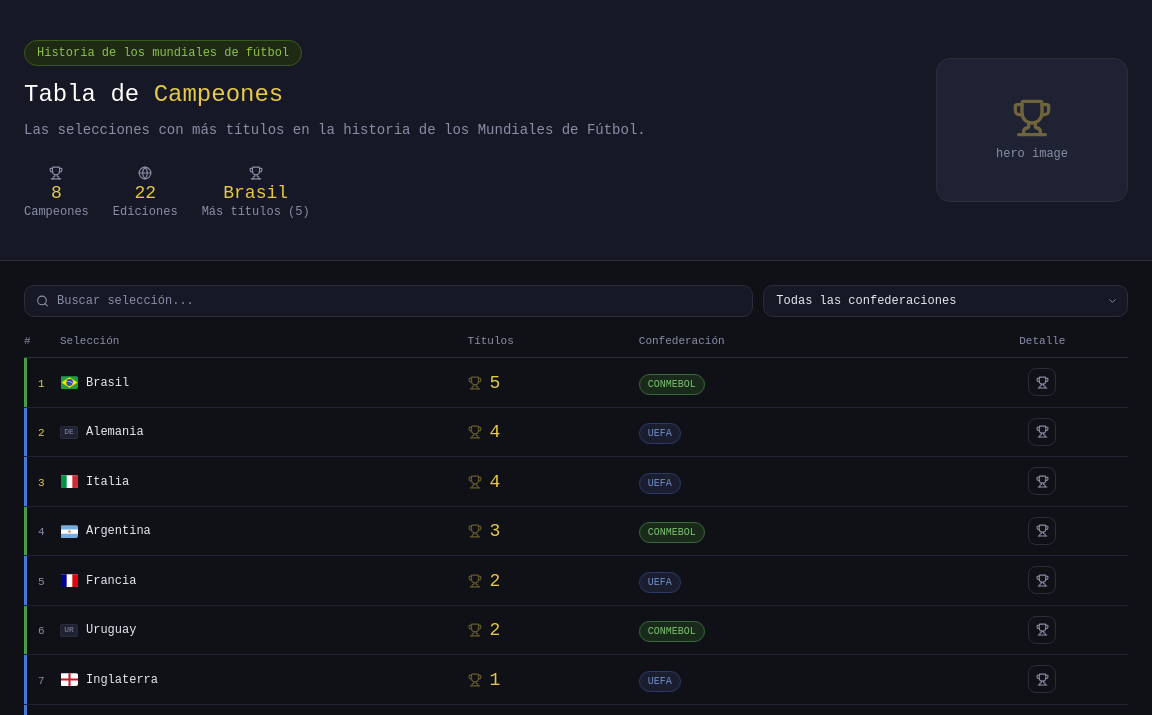
Test: ChampionsPage › opens the title details returned by the API for a champion
Click the button named "Ver títulos de Argentina" at (1042, 531), box [1028,517,1056,545]
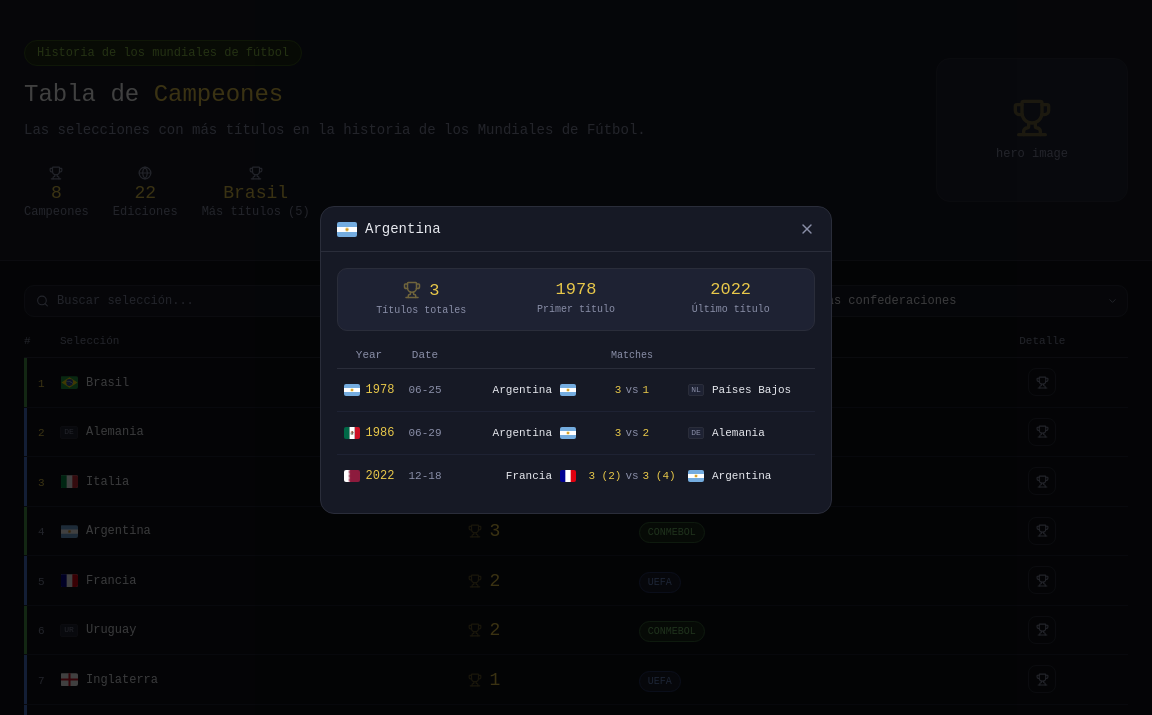
Now the text "2022" is shown 2 times, box [710,280,751,299]; [366,467,394,485]
Now the picture named "Qatar" is shown, box [344,470,360,482]
